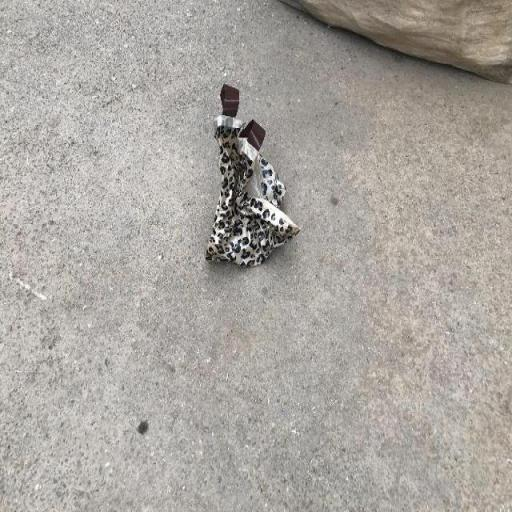plastic-bag: (205, 80, 302, 270)
